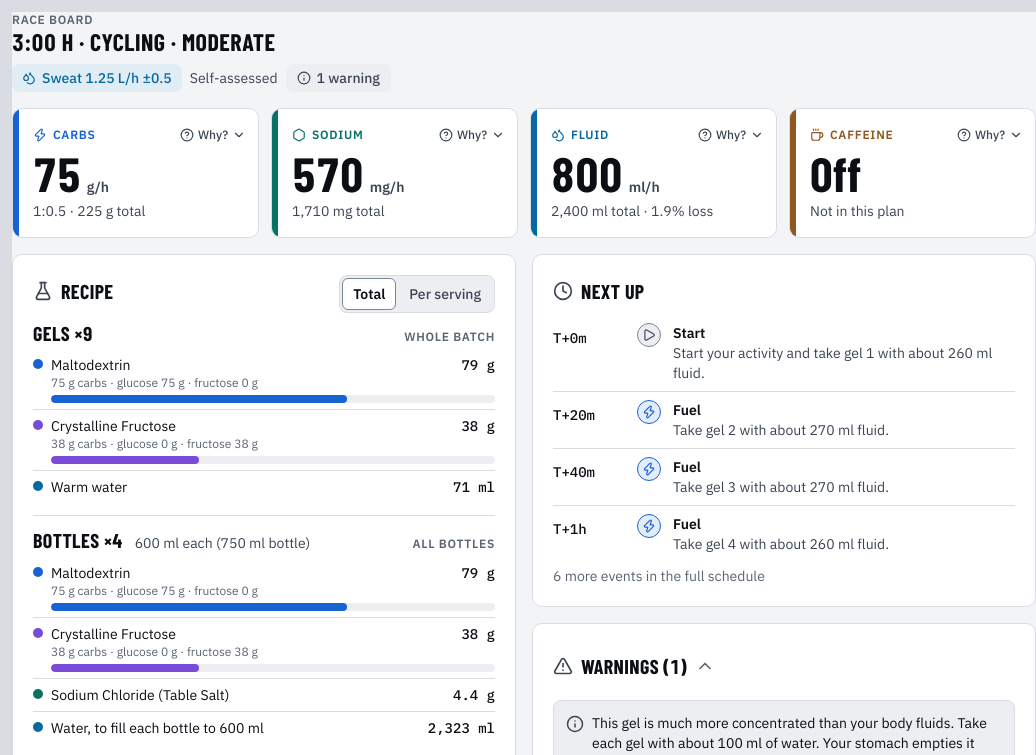
Test: RaceBoard: recipe lanes › splits the carbs between gels and a drink in both mode
Click the radio button labelled "Per serving".
click(445, 294)  # box [398,278,492,310]
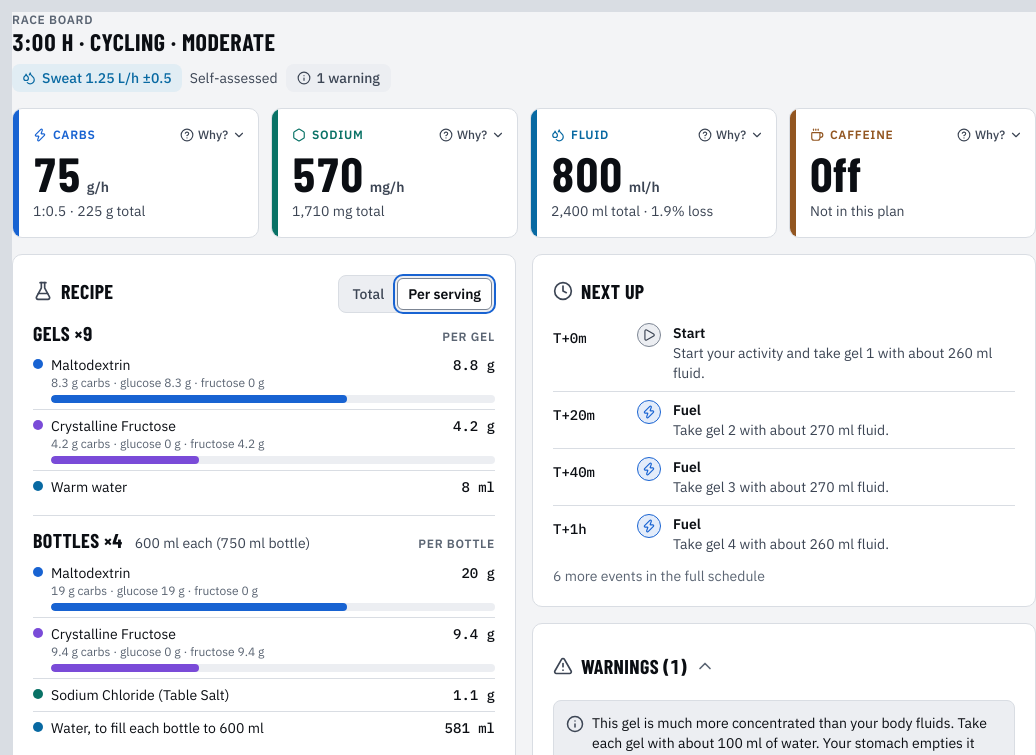
Expected: the text with test id "amounts-caption" reads "Per gel", [442,329,495,344]
Expected: the text with test id "amounts-caption" reads "Per bottle", [418,536,495,551]
